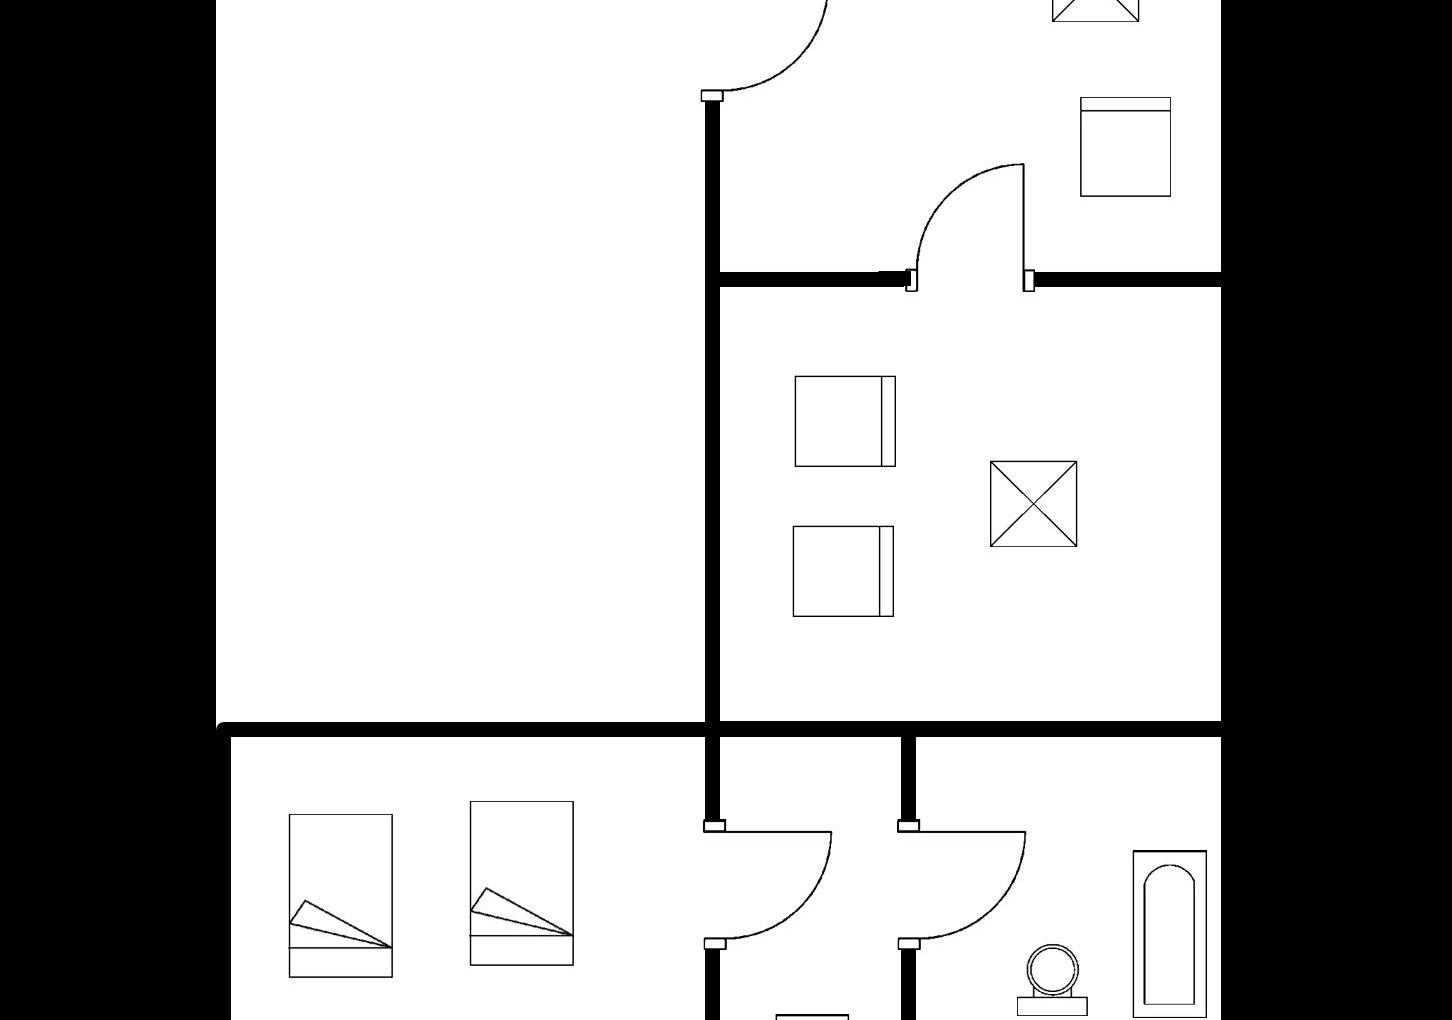bed: (461, 788, 581, 973), (280, 805, 399, 982)
toilet: (1007, 932, 1101, 1020)
tub: (1122, 836, 1214, 1020)
